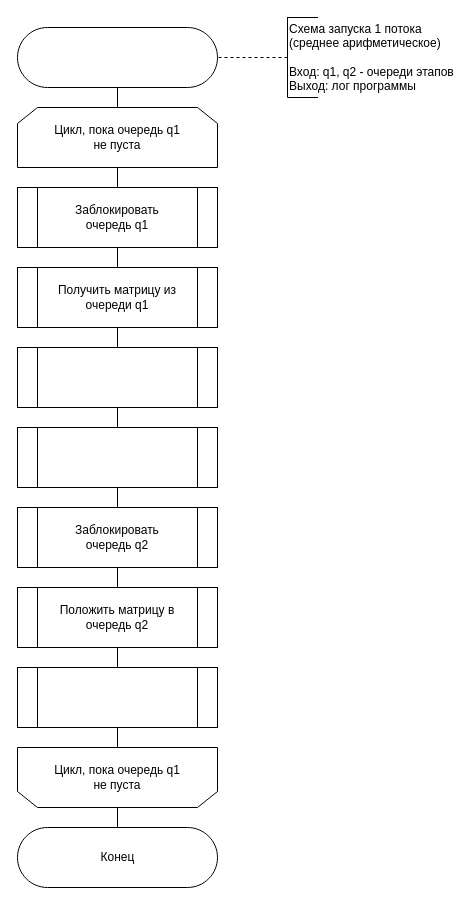
The diagram is 472 pixels wide and 905 high, and some of its shapes have lost their labels. The shapes that lost their labels are listed below. From the top down, each one's centre as x and y in pixels, then its label:
At pixel 117 57: "Начало".
At pixel 117 377: "Разблокировать очередь q1".
At pixel 117 457: "Вычислить среднее арифиметическое элементов матрицы".
At pixel 117 697: "Разблокировать очередь q2".
